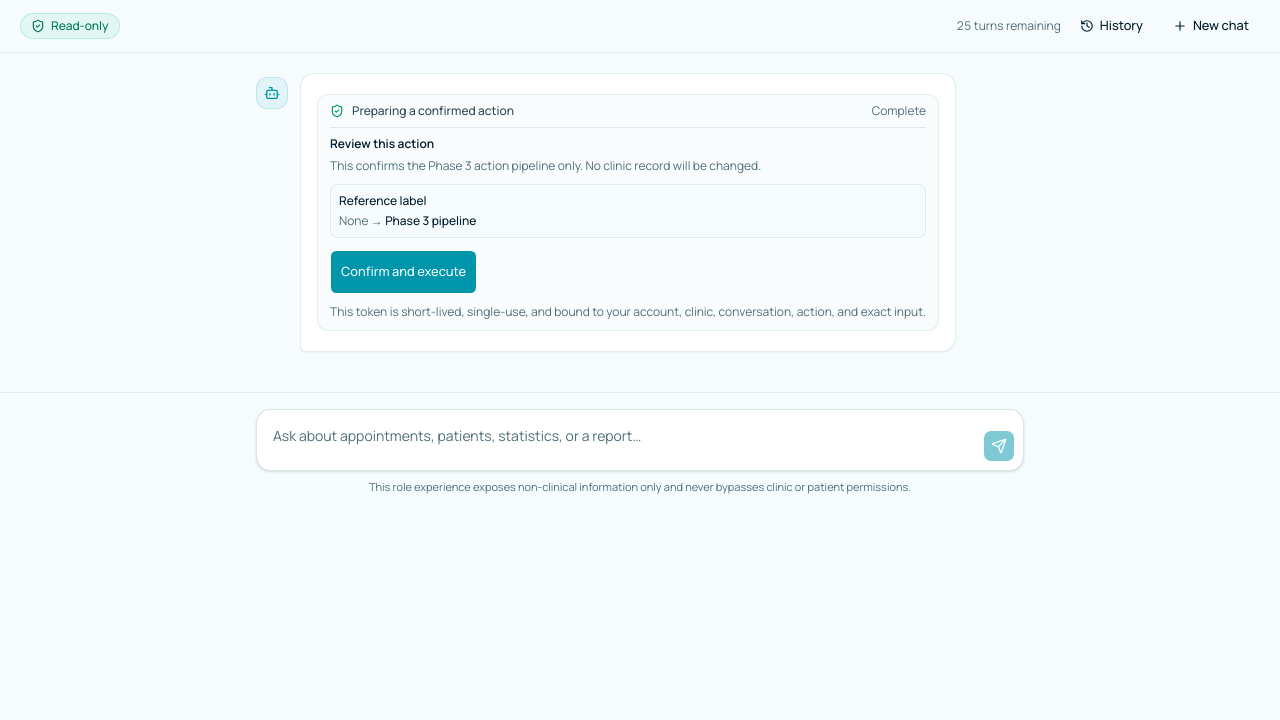
Phase 3 action confirmation UI › renders the exact diff and executes only after the explicit button click
The width and height of the screenshot is (1280, 720).
expect the text "Reference label" is shown: met, box [339,192,426,209]
expect the text "Phase 3 pipeline" is shown: met, box [385,212,476,229]
Click the button "Confirm and execute": (404, 272) [330,250,477,294]
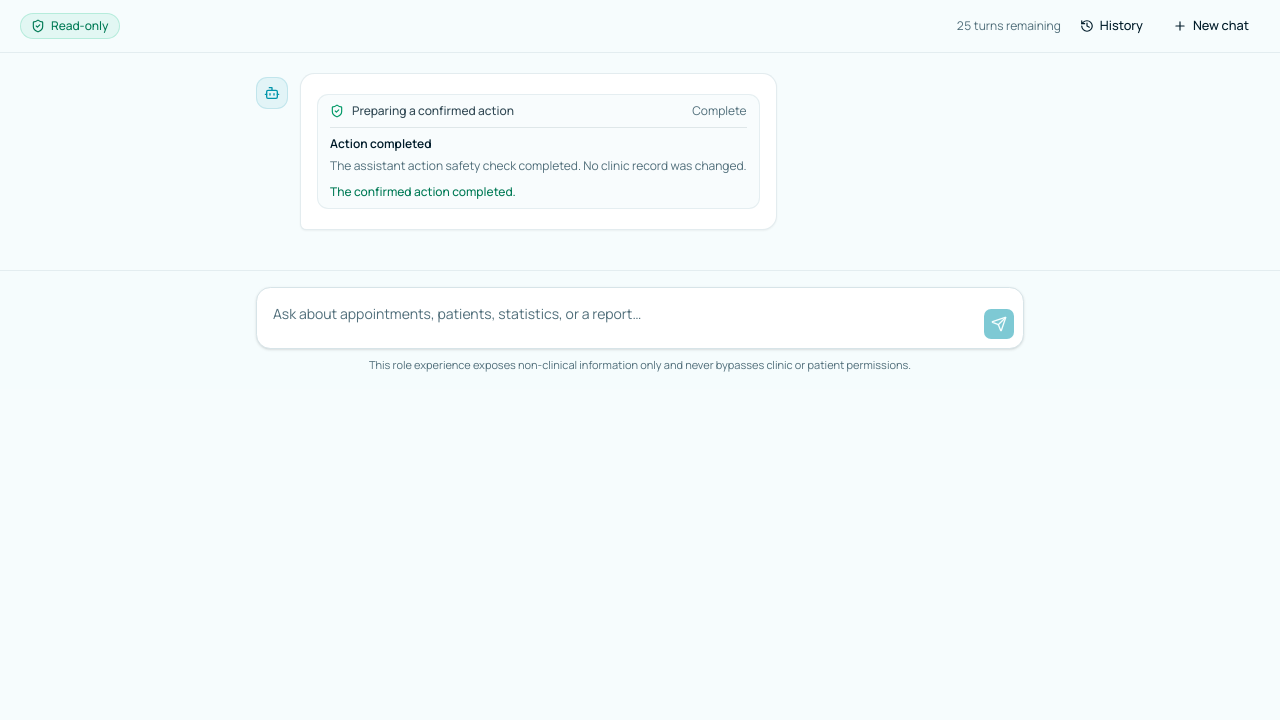
expect the text "The confirmed action completed." is shown: met, box [330,183,516,200]
